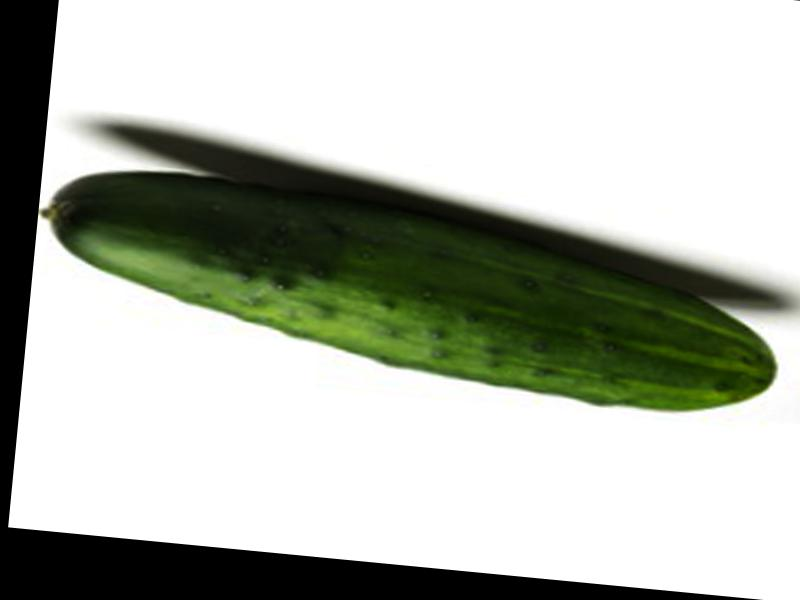Cucumber: (28, 156, 787, 422)
